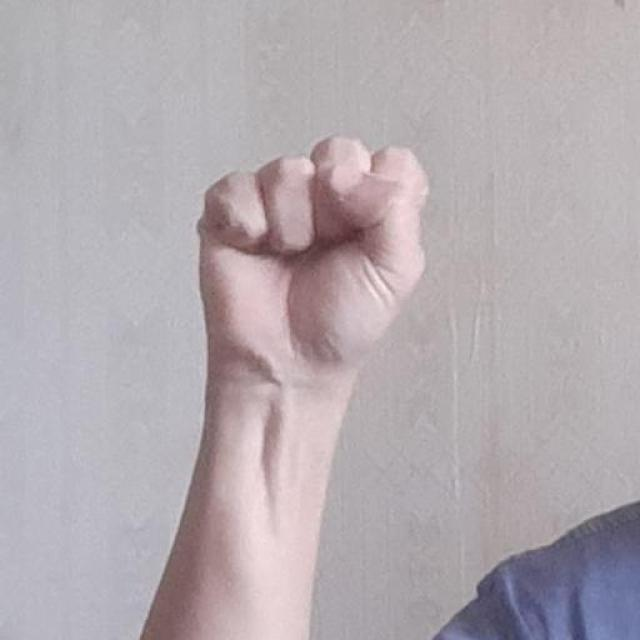hand: (195, 132, 429, 388)
